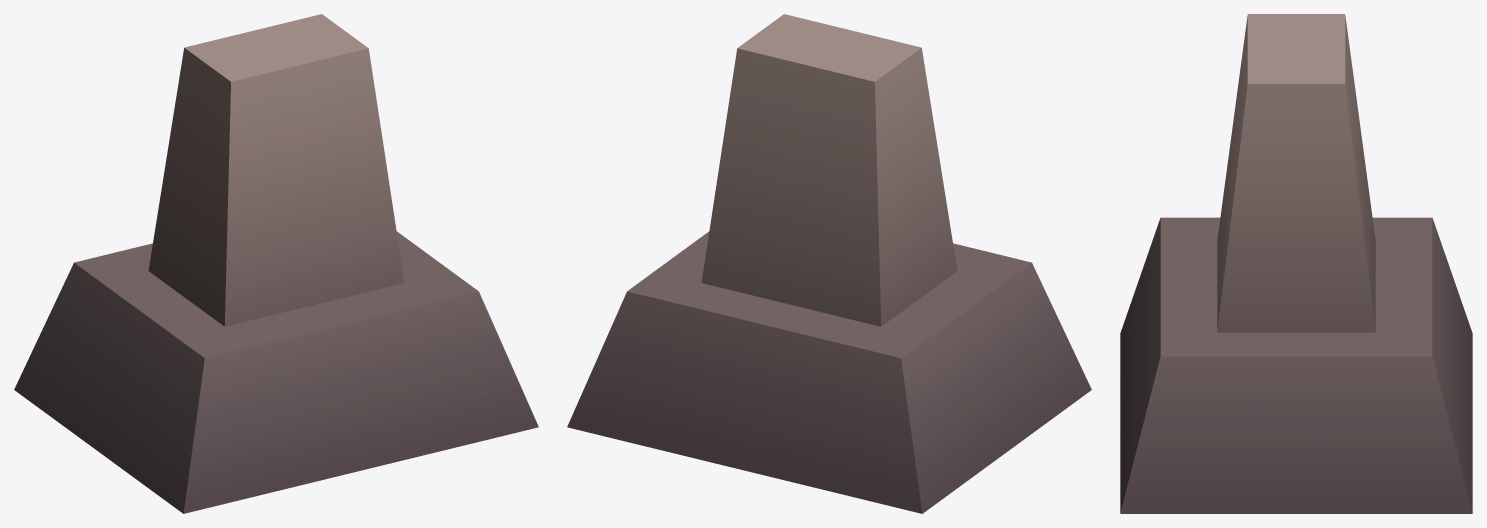
The model's file is tombstone8.glb.
3 renders of one model, left to right at view 1: azimuth 30°, elevation 25°; view 2: azimuth 150°, elevation 25°; view 3: azimuth 270°, elevation 25°, orthographic. The views are drawn at different scales.
Parts seen in each view (by area): view 1: tombstone8; view 2: tombstone8; view 3: tombstone8.
Part boxes in pixels (left/top/right/bottom): tombstone8: left=14, top=14, right=538, bottom=513; tombstone8: left=567, top=14, right=1091, bottom=513; tombstone8: left=1120, top=14, right=1472, bottom=513.
Size of the model in its own units: 0.636 by 0.6167 by 0.5255.
1 material, 1 textured.
